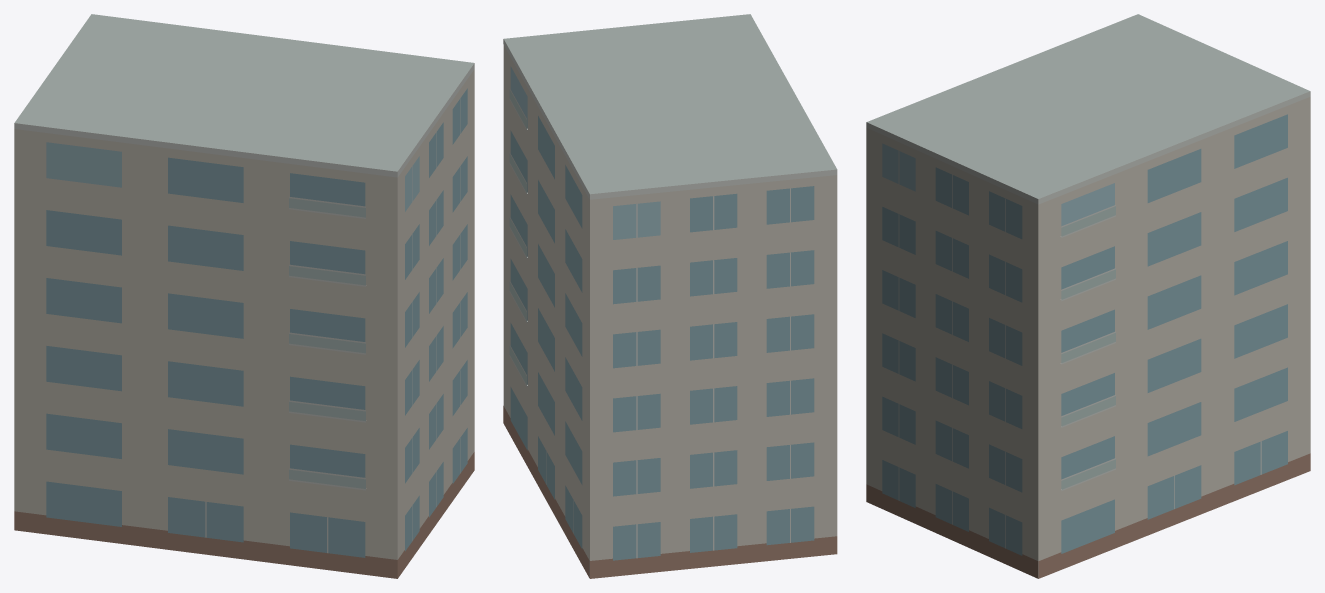
File: survey-upis-32915113.glb
The picture shows the model from 3 angles, left to right: view 1: azimuth 30°, elevation 25°; view 2: azimuth 150°, elevation 25°; view 3: azimuth 270°, elevation 25°; orthographic projection. The views are drawn at different scales.
Visible parts, largest first — view 1: survey-upis-32915113.tmp; view 2: survey-upis-32915113.tmp; view 3: survey-upis-32915113.tmp.
Boxes of the visible parts, x1,y1,x2,y2 form: survey-upis-32915113.tmp: [14, 14, 474, 578]; survey-upis-32915113.tmp: [503, 14, 837, 578]; survey-upis-32915113.tmp: [866, 14, 1310, 578].
Size of the model in its own units: 17.68 by 16.9 by 17.92.
